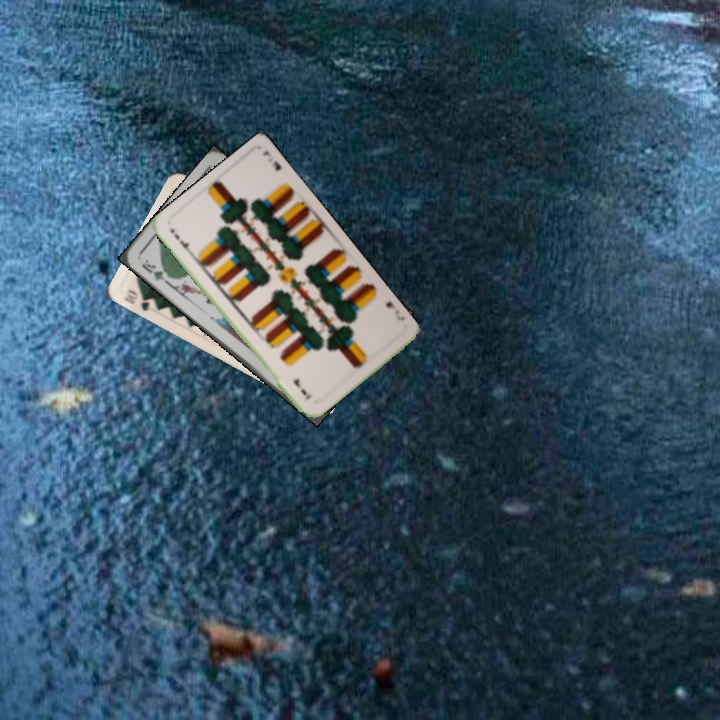E7: (166, 225, 196, 256), (381, 297, 407, 323)
G10: (119, 285, 159, 314)
GK: (137, 255, 174, 286)
